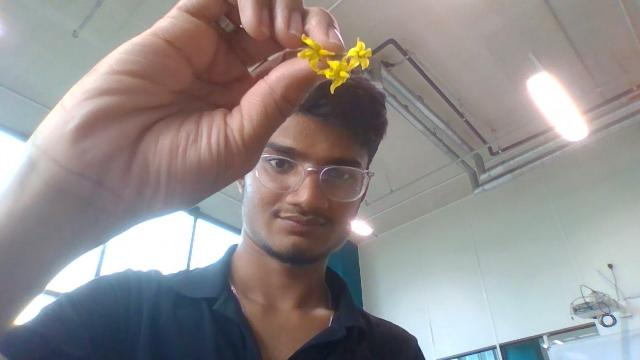Anthesis: (297, 33, 337, 69), (319, 57, 353, 92), (343, 37, 373, 71), (338, 54, 361, 75), (301, 33, 319, 47), (357, 58, 370, 70)
